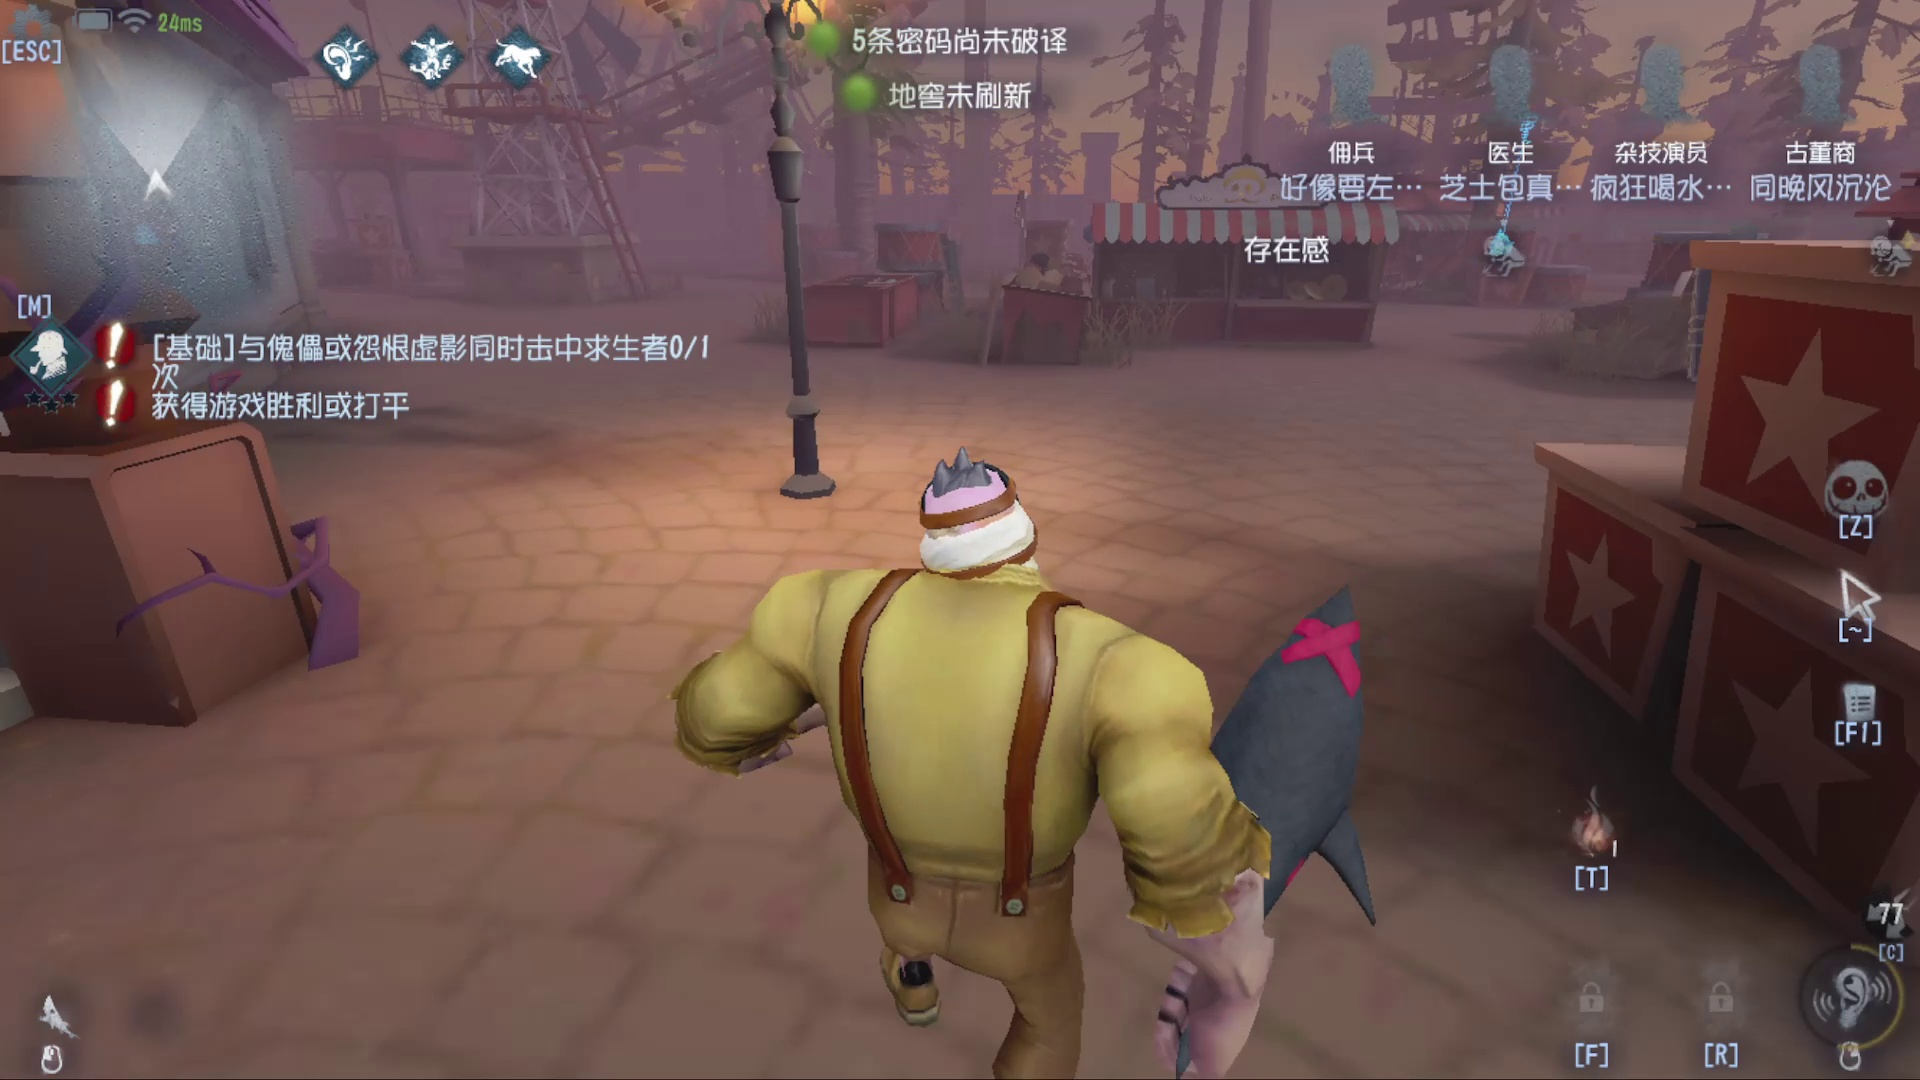密码机: (1474, 121, 1553, 272)
木板: (928, 222, 982, 319)
